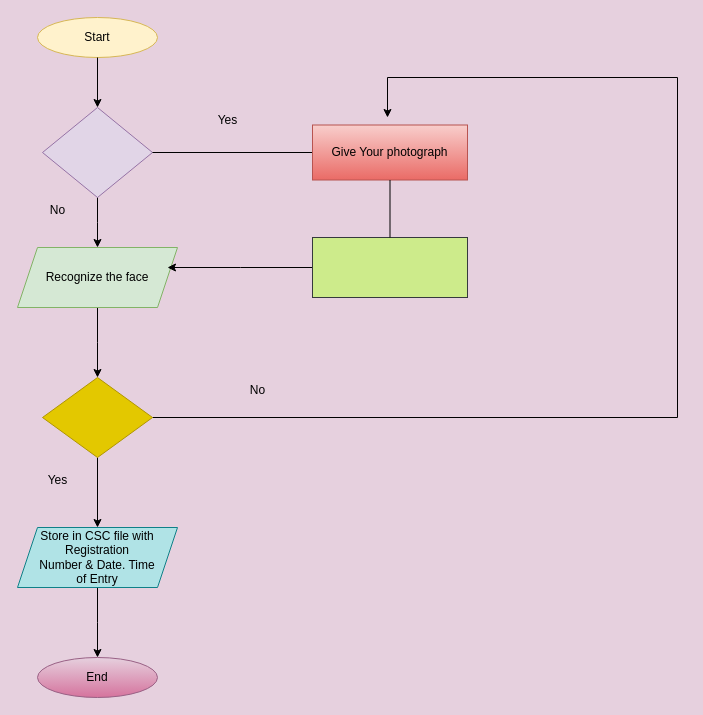
Image size: 703x715. Some labels were removed from this diagram. The box of each missing label's shape, as (x1, y1, x2, y2) in pixels:
Face Recognized: (42, 376, 152, 458)
New User?: (42, 106, 152, 198)
Store the face date in folder on your name: (312, 236, 468, 298)
